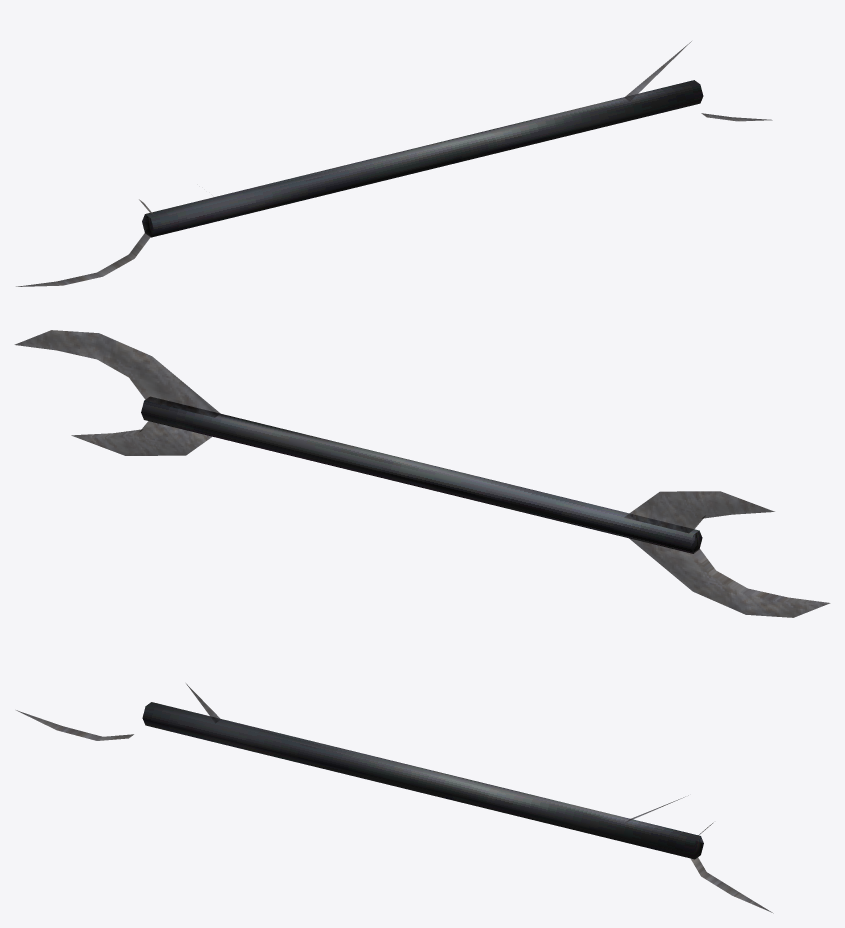
3 renders of one model, top to bottom at view 1: azimuth 30°, elevation 25°; view 2: azimuth 150°, elevation 25°; view 3: azimuth 330°, elevation 25°, orthographic.
Parts seen in each view (by area): view 1: it124; view 2: it124; view 3: it124.
Boxes of the visible parts, x1,y1,x2,y2 form: it124: (16, 41, 772, 286); it124: (14, 330, 830, 617); it124: (16, 683, 773, 913).
Bounding box in the file's own units: 8.14 × 1.18 × 0.208.
2 materials, 2 textured.
